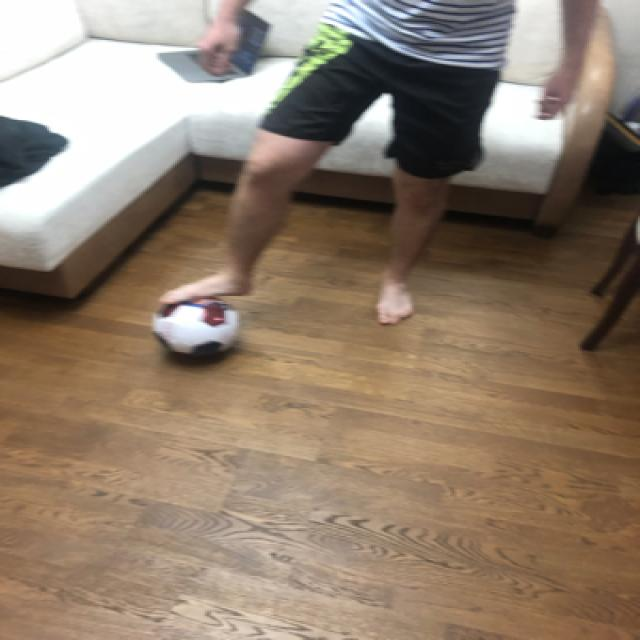soccer_ball: (147, 293, 237, 358)
